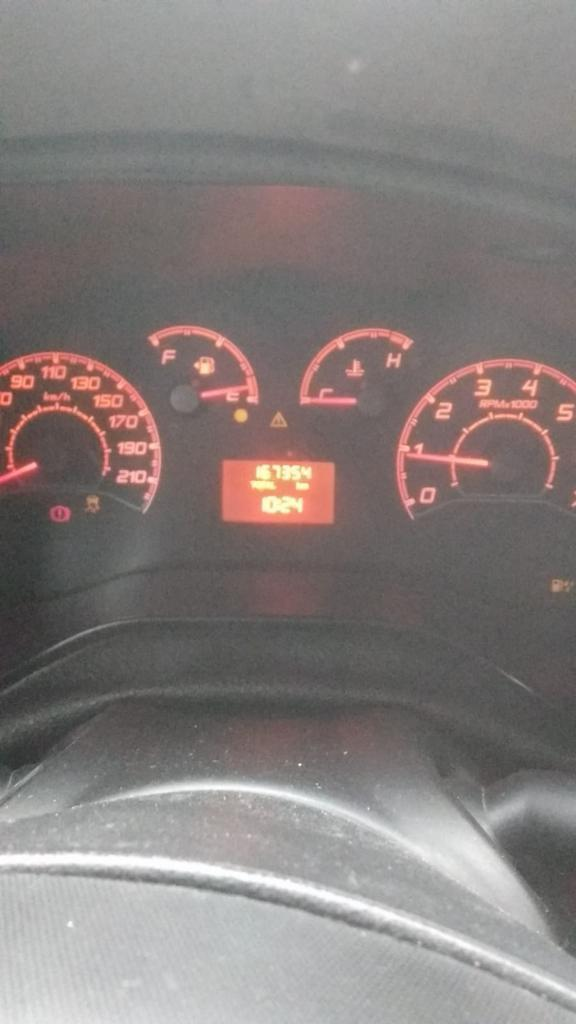0: (266, 495, 276, 513)
1: (255, 463, 260, 479), (261, 495, 265, 513)
2: (280, 495, 291, 513)
3: (281, 463, 290, 479)
4: (291, 496, 304, 513), (301, 465, 312, 478)
5: (290, 463, 300, 480)
6: (260, 463, 271, 479)
7: (271, 463, 281, 478)
X: (266, 480, 276, 490), (255, 479, 261, 489), (249, 479, 255, 489), (301, 482, 309, 489), (276, 497, 280, 510), (261, 480, 265, 489), (296, 480, 300, 489)
odometer: (219, 455, 340, 527)
